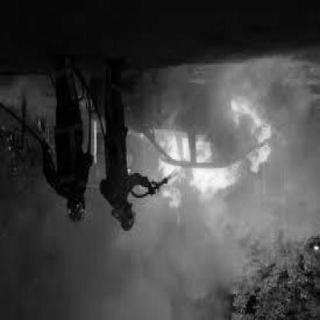Fire: (138, 91, 282, 215)
